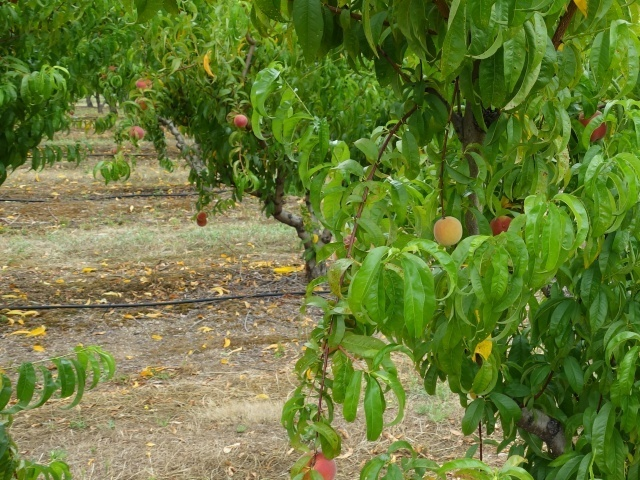peach: (430, 214, 466, 249), (577, 107, 610, 145), (297, 449, 338, 479), (485, 210, 515, 238), (230, 112, 249, 133)
